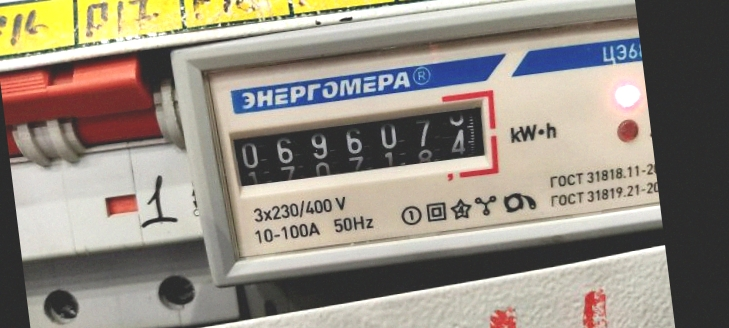0: (238, 138, 261, 170), (377, 118, 400, 150)
4: (446, 125, 468, 156)
6: (271, 132, 297, 165), (343, 124, 365, 154)
7: (412, 115, 432, 147)
9: (308, 129, 329, 160)
screen: (210, 82, 504, 206)
